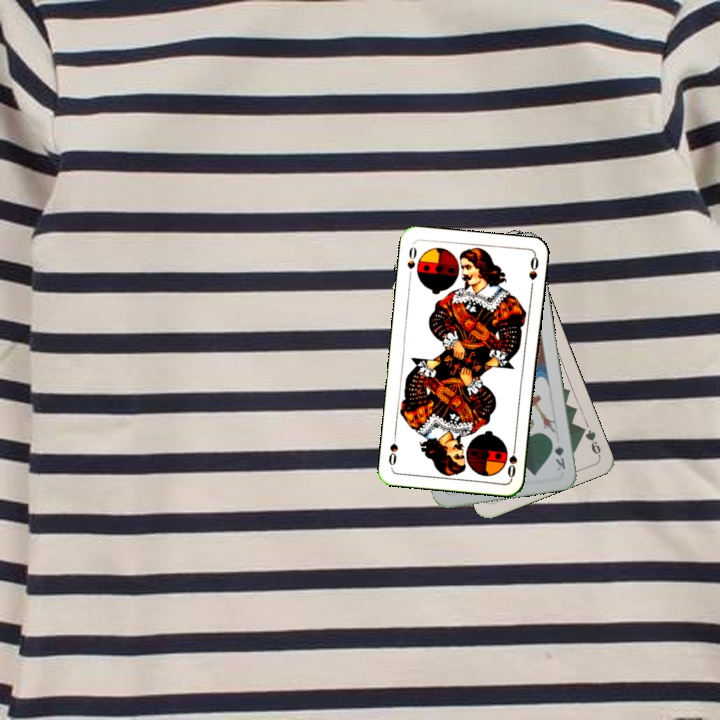G9: (576, 423, 603, 459)
GK: (547, 435, 568, 473)
SO: (503, 440, 520, 480), (403, 243, 419, 281)
